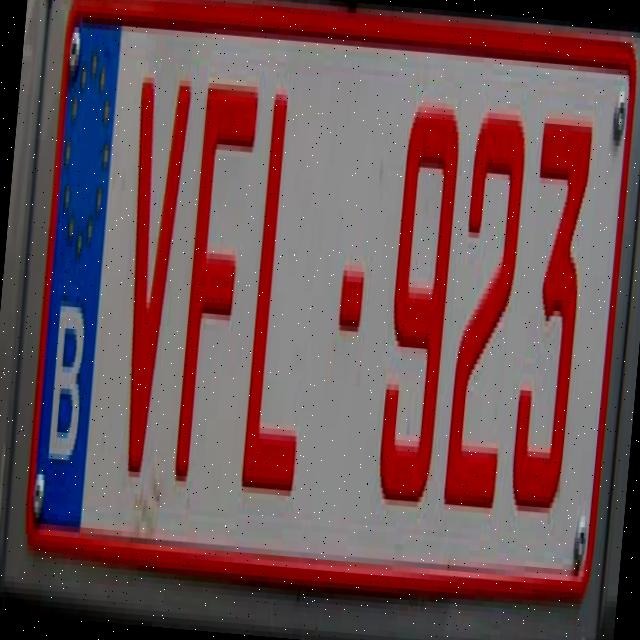Belgique: (25, 0, 127, 533)
EU: (16, 5, 636, 614)
